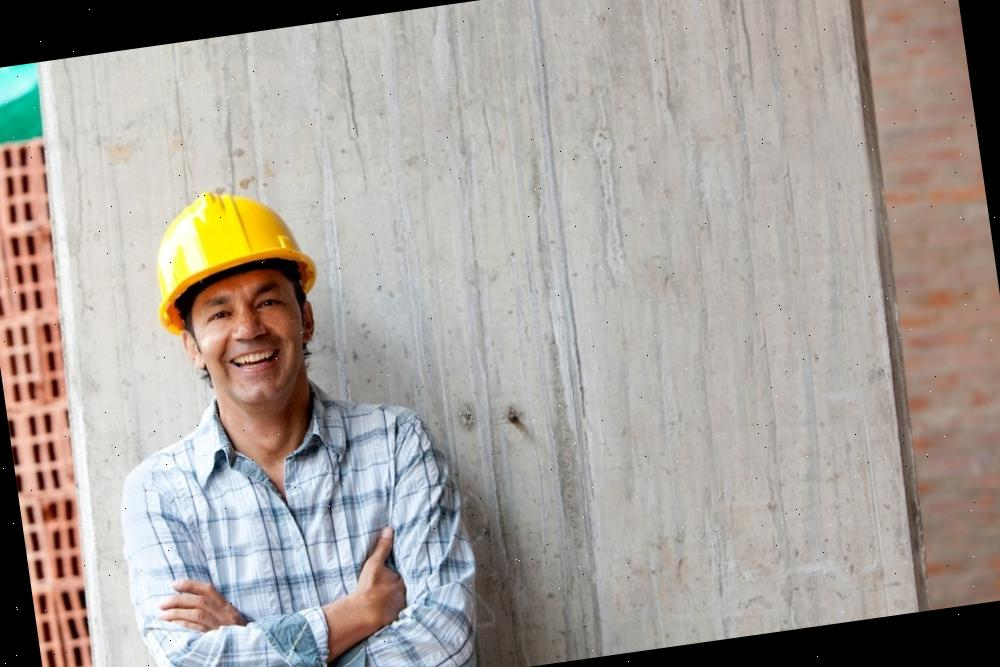helmet: (142, 177, 324, 334)
no_wear: (107, 405, 487, 667)
